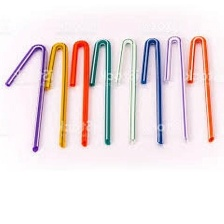drinking_straw: (1, 39, 49, 155), (185, 31, 215, 145), (138, 33, 167, 148), (113, 32, 140, 145), (68, 34, 92, 150)
